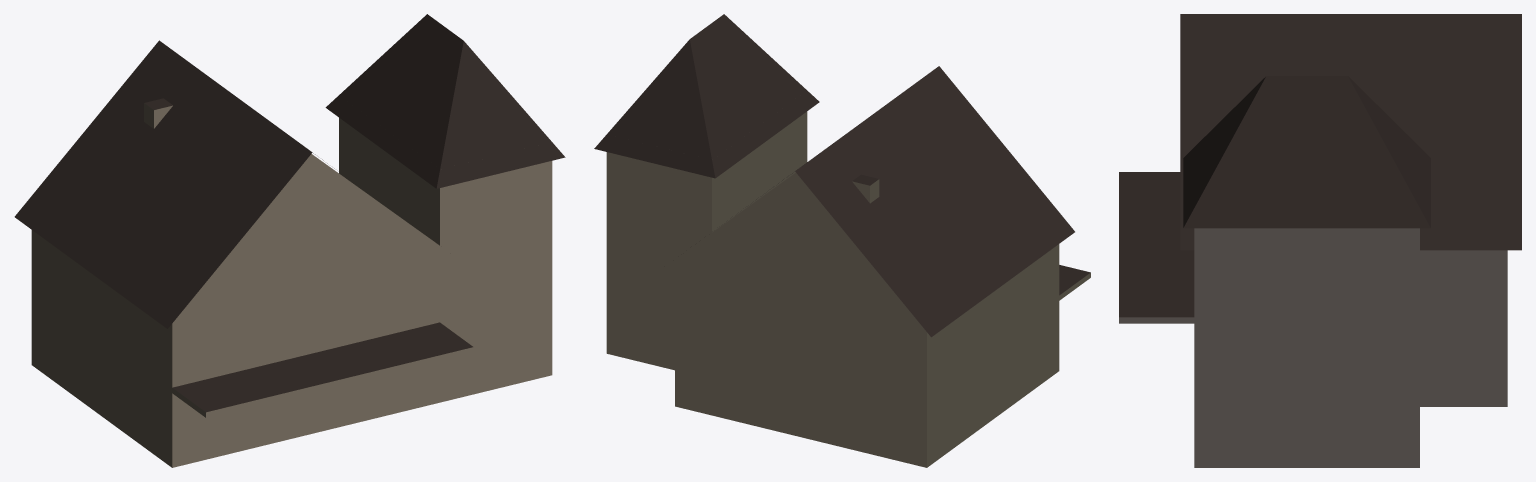
The model's file is ns-victorian.far-facades-v3.lod2.glb.
The picture shows the model from 3 angles, left to right: view 1: azimuth 30°, elevation 25°; view 2: azimuth 150°, elevation 25°; view 3: azimuth 270°, elevation 25°; orthographic projection. The views are drawn at different scales.
Visible parts, largest first — view 1: ns-victorian; view 2: ns-victorian; view 3: ns-victorian.
Part boxes in pixels (bbox=[...]): ns-victorian: bbox=[14, 14, 565, 467]; ns-victorian: bbox=[594, 14, 1090, 467]; ns-victorian: bbox=[1119, 14, 1521, 467].
Bounding box in the file's own units: 16.4 × 12.73 × 12.85.
